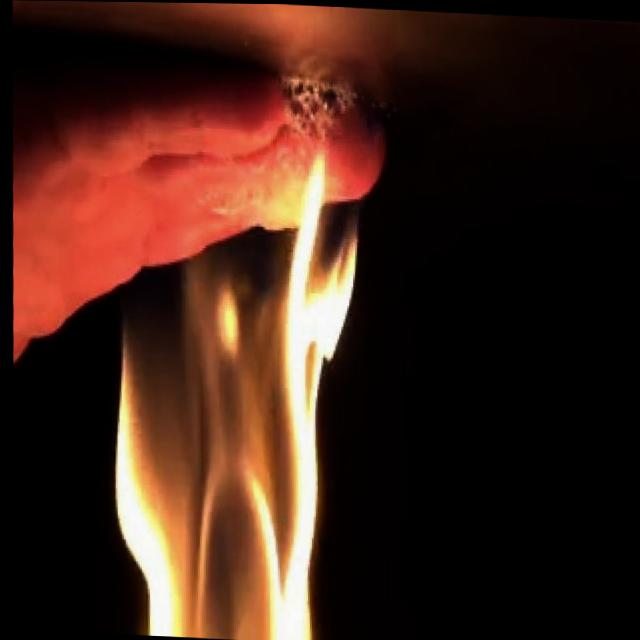Fire: (83, 132, 376, 640)
